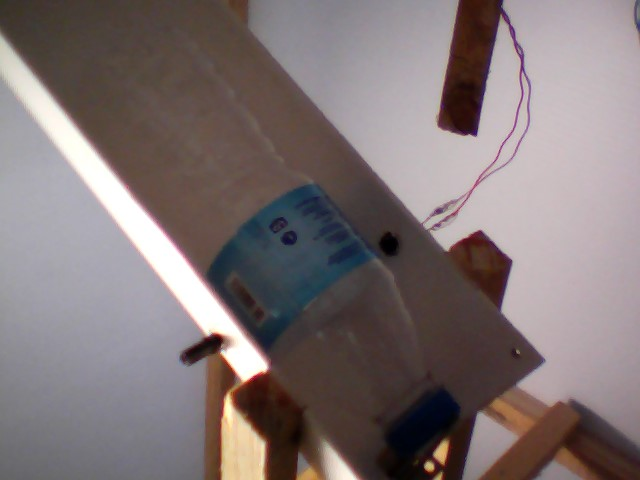plastico: (64, 9, 469, 467)
